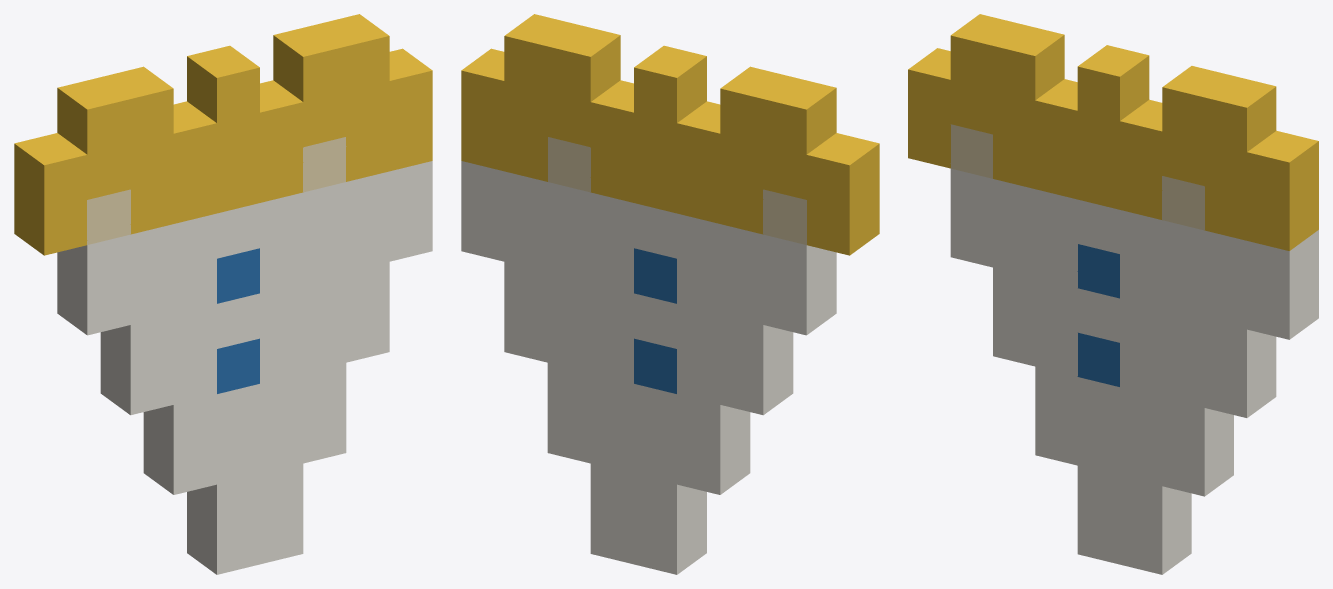
File: magnet_fish_chips.glb
The picture shows the model from 3 angles, left to right: view 1: azimuth 30°, elevation 25°; view 2: azimuth 150°, elevation 25°; view 3: azimuth 330°, elevation 25°; orthographic projection.
Parts seen in each view (by area): view 1: Magnet_fish_chips; view 2: Magnet_fish_chips; view 3: Magnet_fish_chips.
Boxes of the visible parts, bbox=[...] form: Magnet_fish_chips: bbox=[14, 14, 432, 574]; Magnet_fish_chips: bbox=[461, 14, 879, 574]; Magnet_fish_chips: bbox=[908, 14, 1318, 574].
Size of the model in its own units: 0.045 by 0.055 by 0.006.
Materials: 1 (1 with a texture image).
